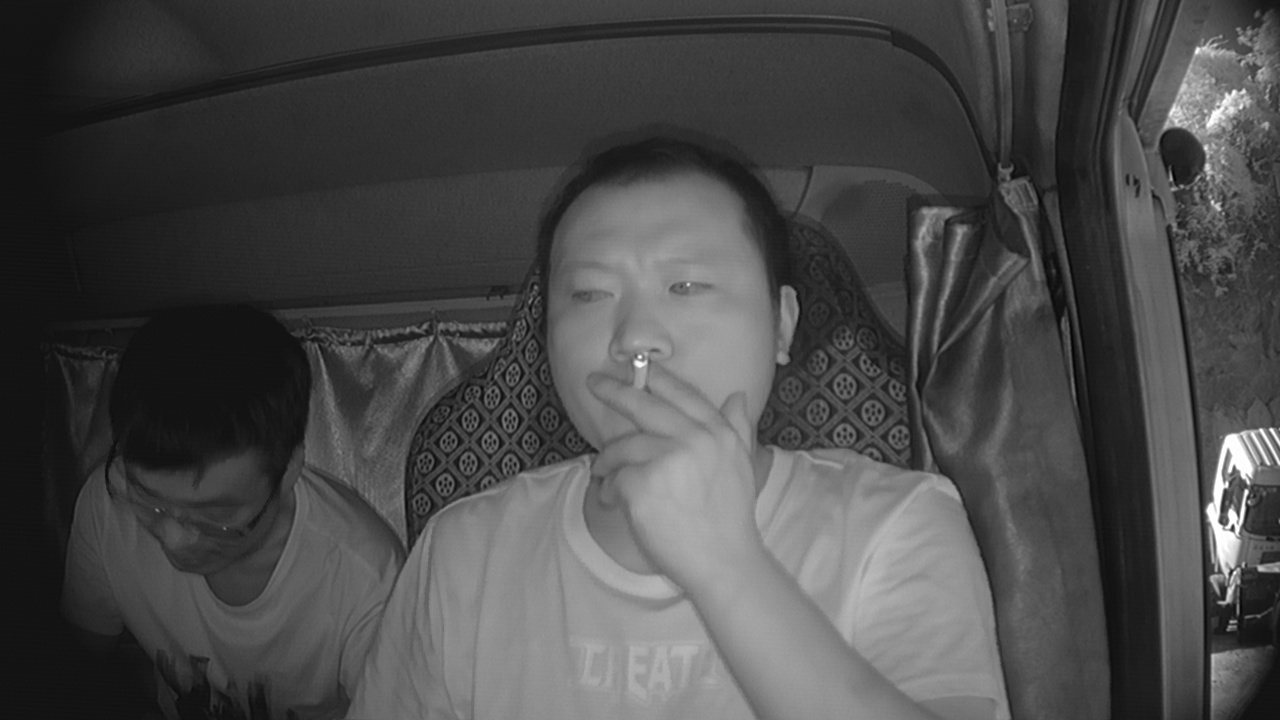hand: (581, 361, 757, 563)
